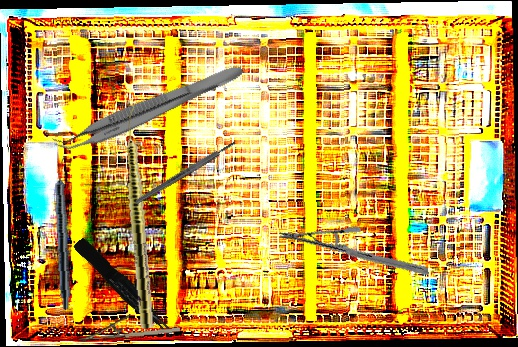Handpiece: (120, 101, 157, 330), (52, 156, 75, 310)
Needle Holder: (278, 197, 430, 309), (77, 311, 181, 342)
Scalpel Handle: (134, 139, 237, 206)
Tissue Forceps: (51, 52, 246, 163), (72, 233, 176, 344)
